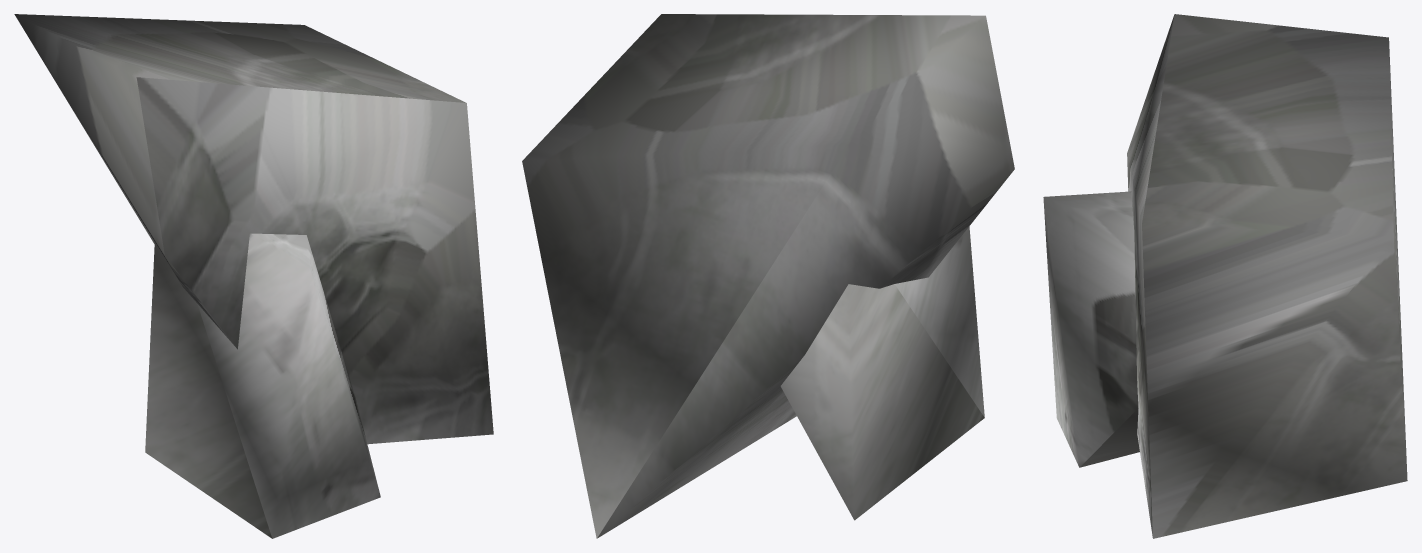
The model's file is 3_R_Grande_LOD_1.fbx.
3 renders of one model, left to right at view 1: azimuth 30°, elevation 25°; view 2: azimuth 150°, elevation 25°; view 3: azimuth 270°, elevation 25°, orthographic. The views are drawn at different scales.
Parts seen in each view (by area): view 1: 3_R_Grande_LOD_1; view 2: 3_R_Grande_LOD_1; view 3: 3_R_Grande_LOD_1.
Boxes of the visible parts, x1,y1,x2,y2 form: 3_R_Grande_LOD_1: [14, 14, 493, 538]; 3_R_Grande_LOD_1: [522, 14, 1014, 538]; 3_R_Grande_LOD_1: [1043, 14, 1407, 538].
Size of the model in its own units: 1321 by 1583 by 1382.
